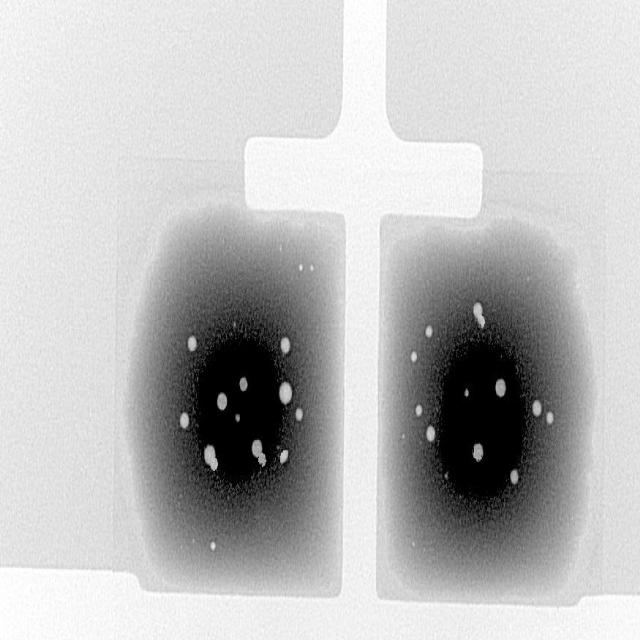component: (111, 155, 344, 614), (377, 169, 605, 609)
void: (205, 444, 218, 470), (279, 381, 293, 405), (475, 302, 486, 327), (203, 444, 215, 465), (496, 378, 508, 397), (252, 439, 263, 457), (217, 392, 227, 410), (474, 443, 484, 461), (426, 425, 436, 442), (533, 399, 543, 416), (239, 375, 248, 392), (180, 412, 189, 428), (282, 337, 290, 353), (280, 449, 289, 463), (187, 337, 196, 350), (258, 452, 266, 466), (547, 410, 555, 424), (512, 470, 519, 485), (296, 408, 304, 420), (415, 404, 423, 416), (426, 325, 434, 336), (209, 541, 216, 552), (411, 351, 418, 362), (465, 387, 470, 397), (299, 263, 304, 270), (236, 413, 240, 421), (445, 472, 449, 479), (311, 265, 315, 270), (402, 434, 406, 439), (233, 321, 236, 327)
